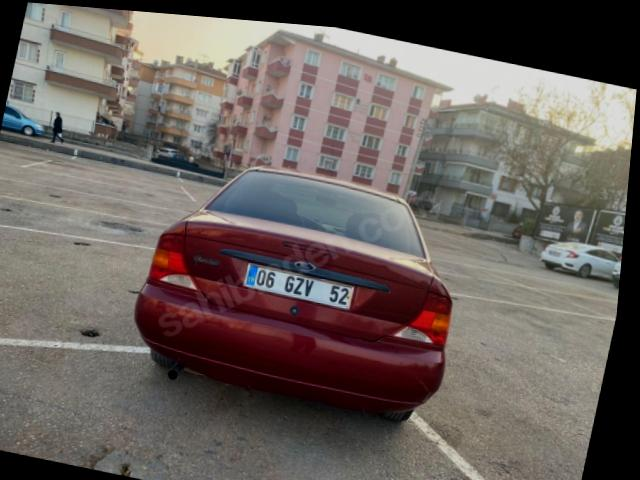plaka: (243, 263, 353, 309)
